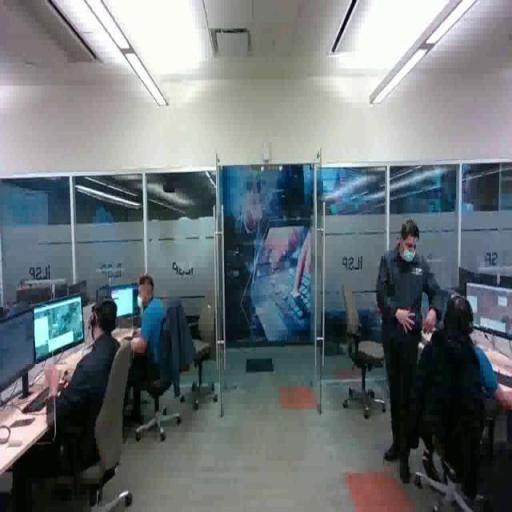person: (36, 292, 126, 512), (414, 292, 512, 483), (380, 220, 444, 487), (117, 273, 185, 410)
